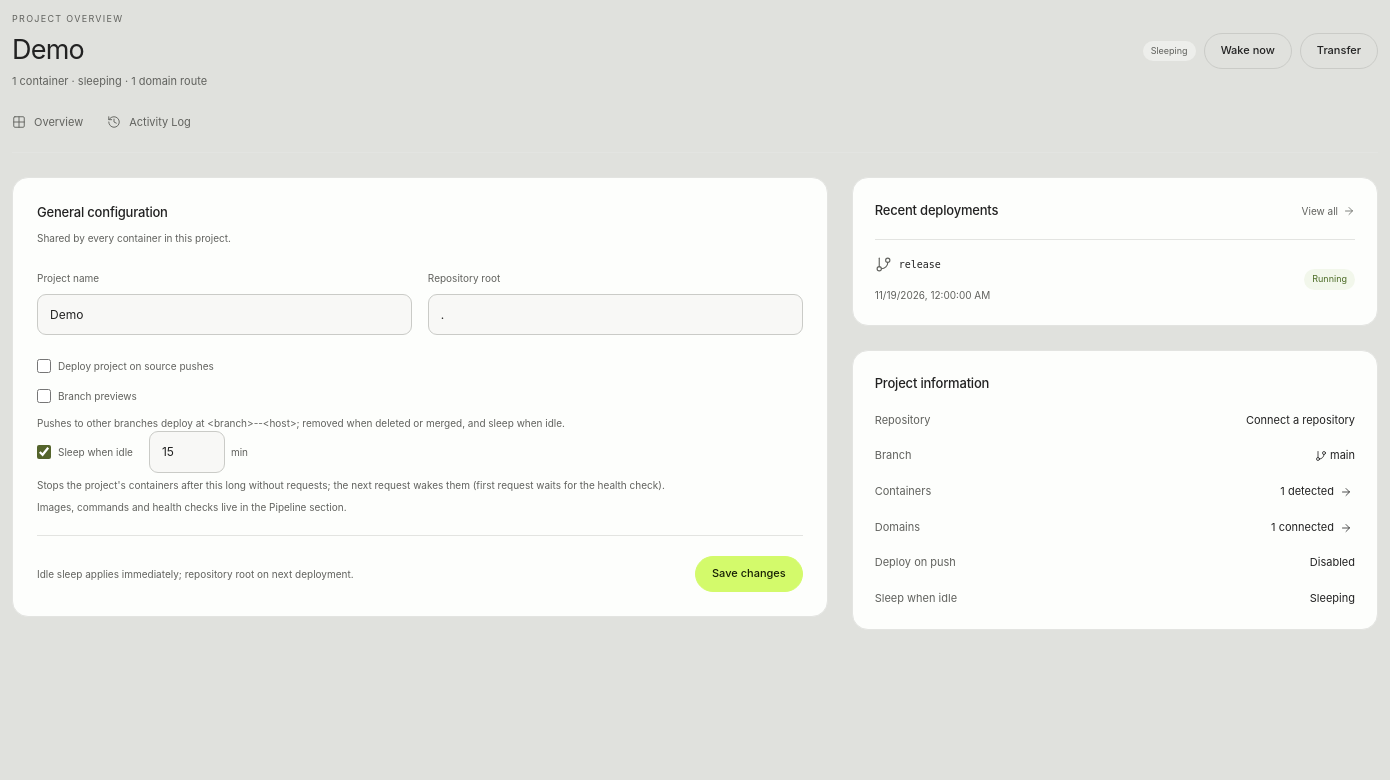
Scenario: re-renders sleep and wake from live project upserts without polling
The image size is (1390, 780).
Later steps or results of the test are not shown.
Expected: the text "1 container · 1 running · 1 domain route" is shown, [12,73,207,90]
Click the button "Wake now": x=1248, y=51 [1204,33,1292,69]
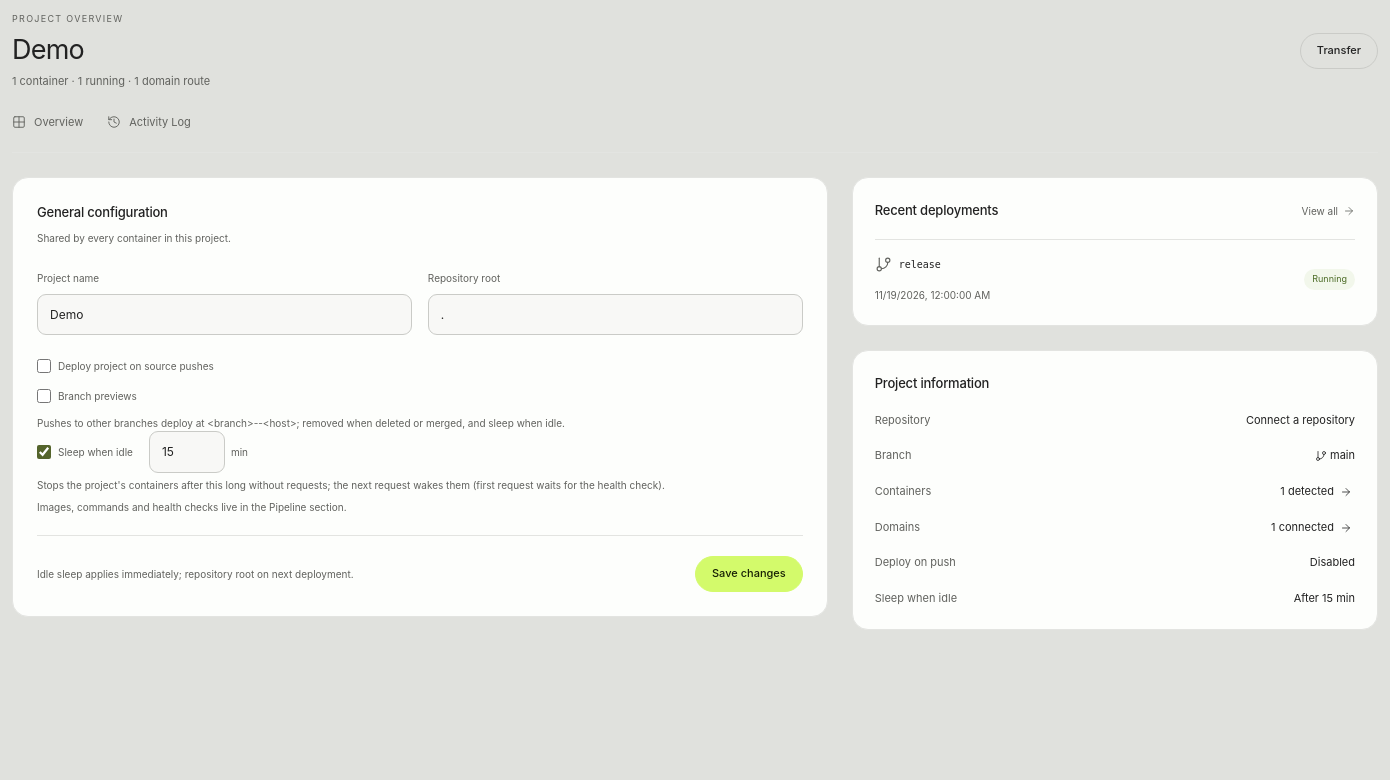
Now the button "Wake now" is gone
Now the text "After 15 min" is shown, box [1294,590,1355,607]
Now the text "1 container · 1 running · 1 domain route" is shown, box [12,73,210,90]
